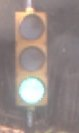Green: (8, 9, 56, 113)
